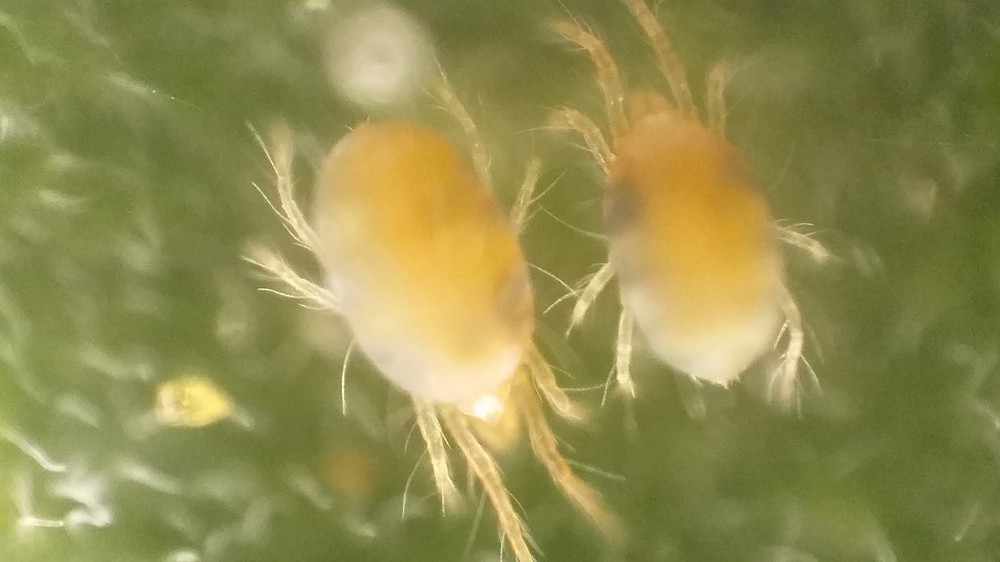Aracnido Rojo: (221, 72, 623, 562), (544, 15, 858, 439)
